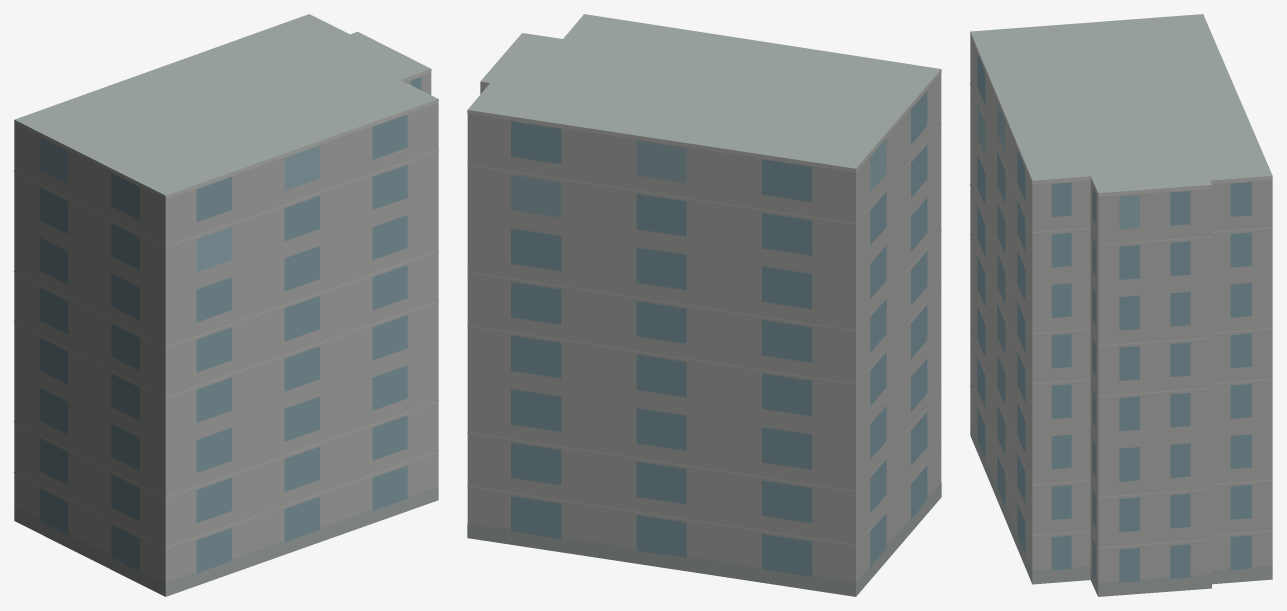
The model's file is survey-upis-32998854.glb.
3 views of the same model, side by side, from view 1: azimuth 30°, elevation 25°; view 2: azimuth 150°, elevation 25°; view 3: azimuth 270°, elevation 25° (orthographic). The views are drawn at different scales.
Visible parts, largest first — view 1: survey-upis-32998854.tmp; view 2: survey-upis-32998854.tmp; view 3: survey-upis-32998854.tmp.
Boxes of the visible parts, x1,y1,x2,y2 form: survey-upis-32998854.tmp: [14, 14, 438, 596]; survey-upis-32998854.tmp: [467, 14, 941, 596]; survey-upis-32998854.tmp: [970, 14, 1272, 596].
Size of the model in its own units: 24.49 by 25.7 by 17.47.
